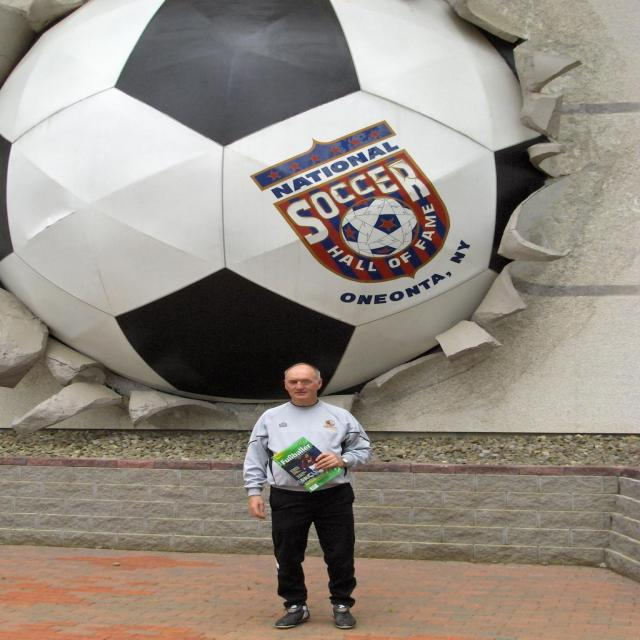Face: (281, 366, 331, 411)
